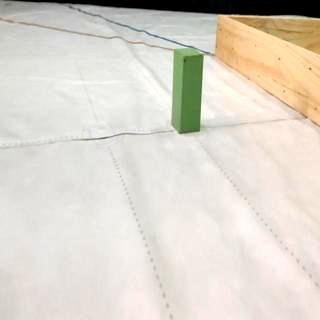greenbox: (170, 46, 205, 134)
